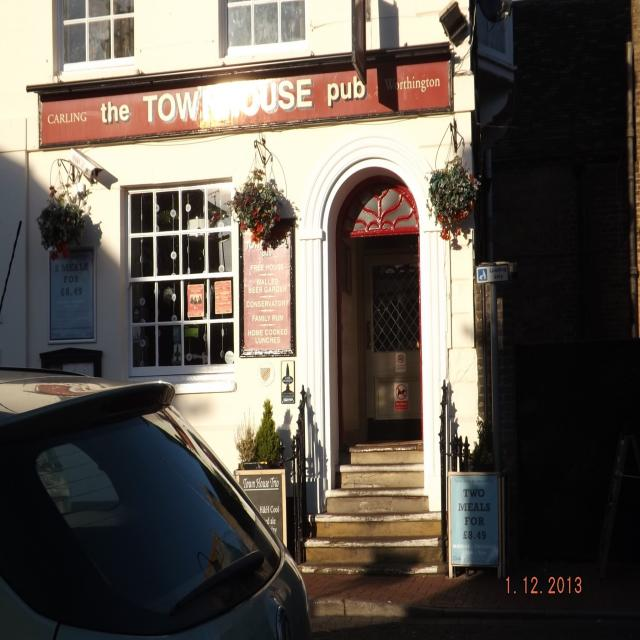AVOID: (300, 446, 442, 567)
